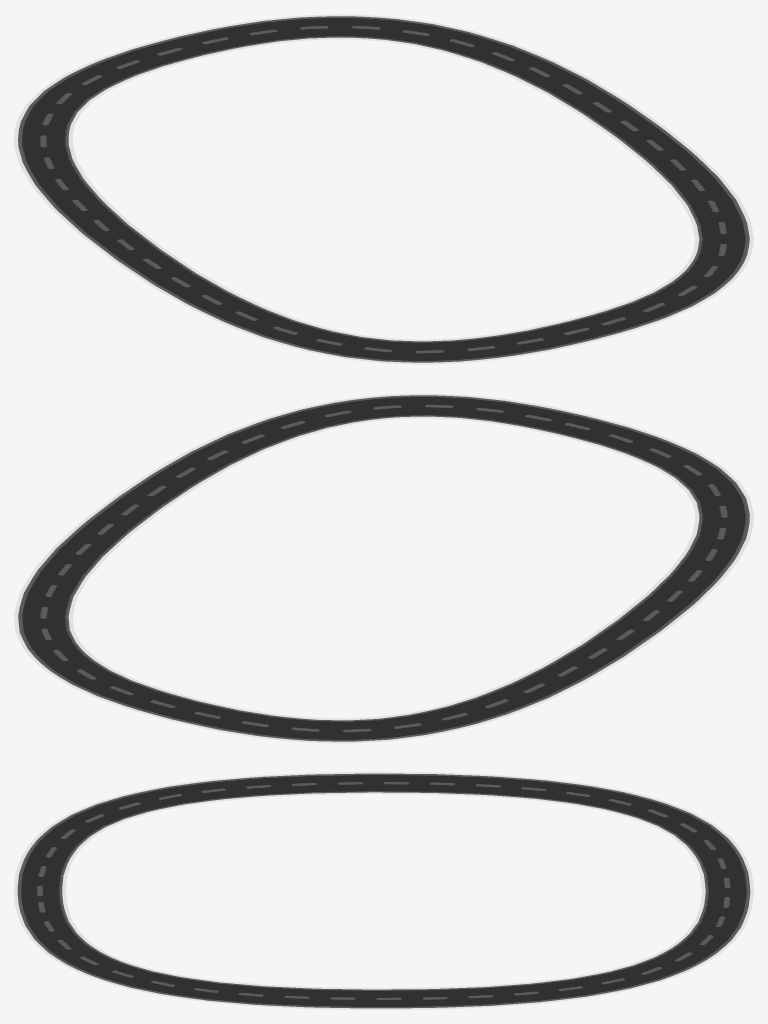
The model's file is trackWide.glb.
3 renders of one model, top to bottom at view 1: azimuth 30°, elevation 25°; view 2: azimuth 150°, elevation 25°; view 3: azimuth 270°, elevation 25°, orthographic. The views are drawn at different scales.
Visible parts, largest first — view 1: Track; view 2: Track; view 3: Track.
Part boxes in pixels (bbox=[...]): Track: bbox=[14, 14, 753, 364]; Track: bbox=[14, 393, 753, 743]; Track: bbox=[14, 772, 753, 1009].
Size of the model in its own units: 14.66 by 6.22e-07 by 19.26.
Materials: 2 (1 with a texture image).
